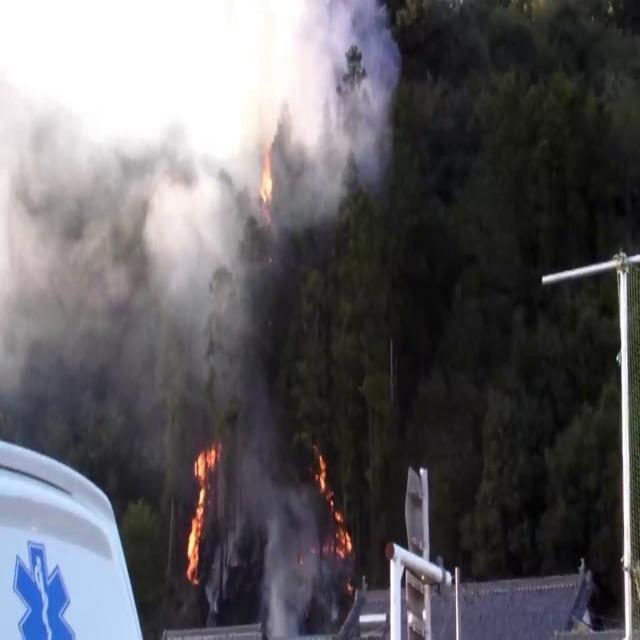Fire: (182, 433, 220, 588), (315, 443, 355, 574), (258, 142, 276, 212)
Smoke: (0, 32, 255, 448), (246, 0, 404, 259), (221, 350, 318, 633)
